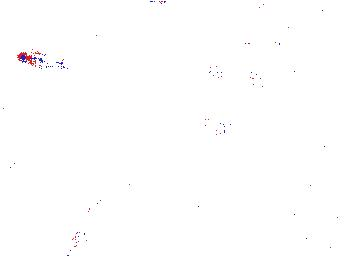glassfish: (198, 114, 289, 156), (74, 179, 133, 243)
red belly glassfish: (16, 51, 65, 69), (229, 68, 268, 89), (202, 64, 239, 81), (240, 37, 281, 52)
